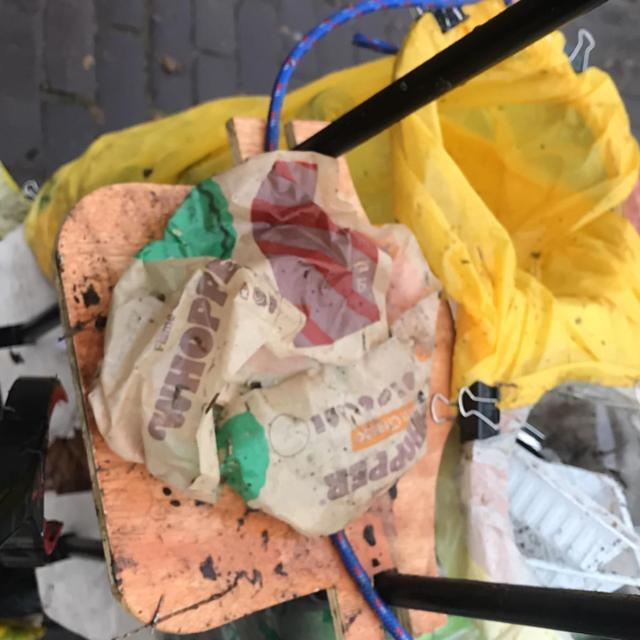Paper: (84, 147, 446, 540), (508, 444, 640, 574), (510, 463, 640, 592)
